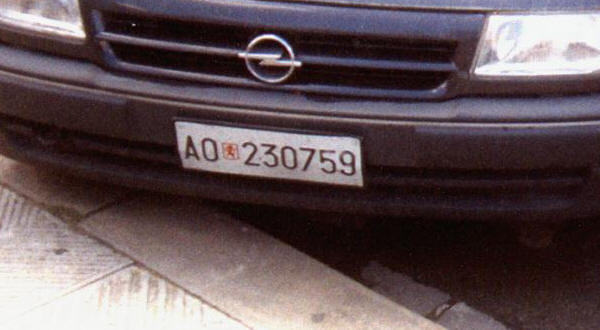license_plate: (172, 119, 365, 189)
